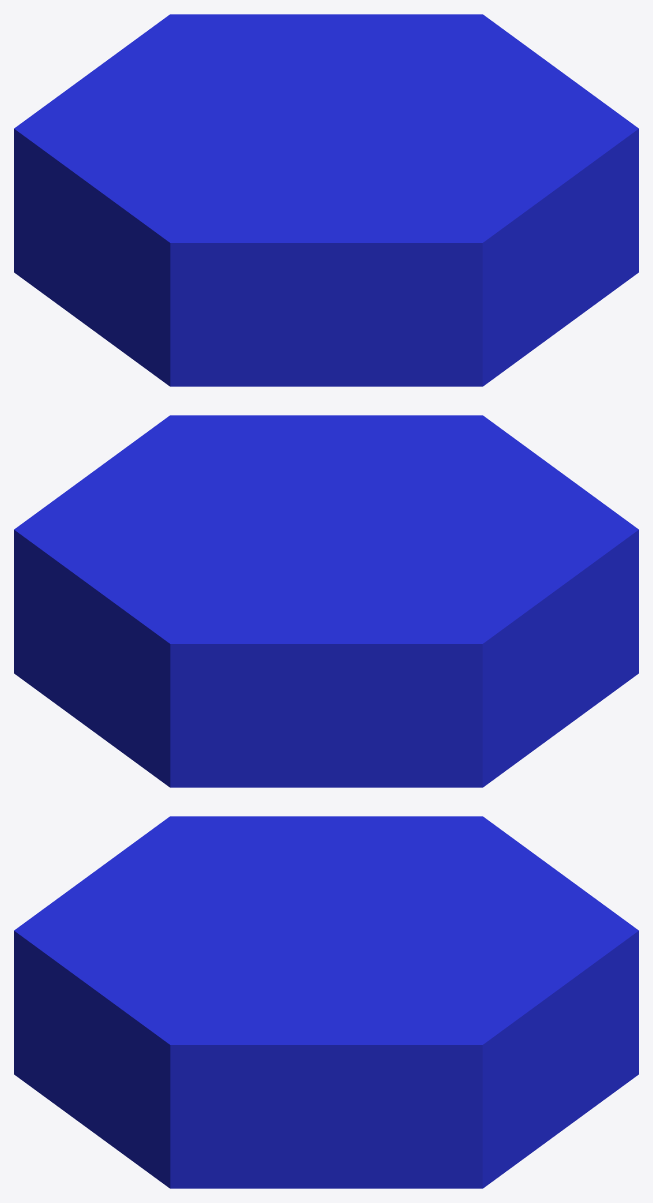
Rendered from Cell_borders_6_44_constructor_uv-edit_level2_platform.fbx.
The picture shows the model from 3 angles, top to bottom: view 1: azimuth 30°, elevation 25°; view 2: azimuth 150°, elevation 25°; view 3: azimuth 270°, elevation 25°; orthographic projection.
Visible parts, largest first — view 1: Level2_1; view 2: Level2_1; view 3: Level2_1.
Boxes of the visible parts, left/top/right/bottom form: Level2_1: left=14, top=14, right=638, bottom=386; Level2_1: left=14, top=415, right=638, bottom=787; Level2_1: left=14, top=816, right=638, bottom=1188.
Bounding box in the file's own units: 186 × 54.68 × 215.
